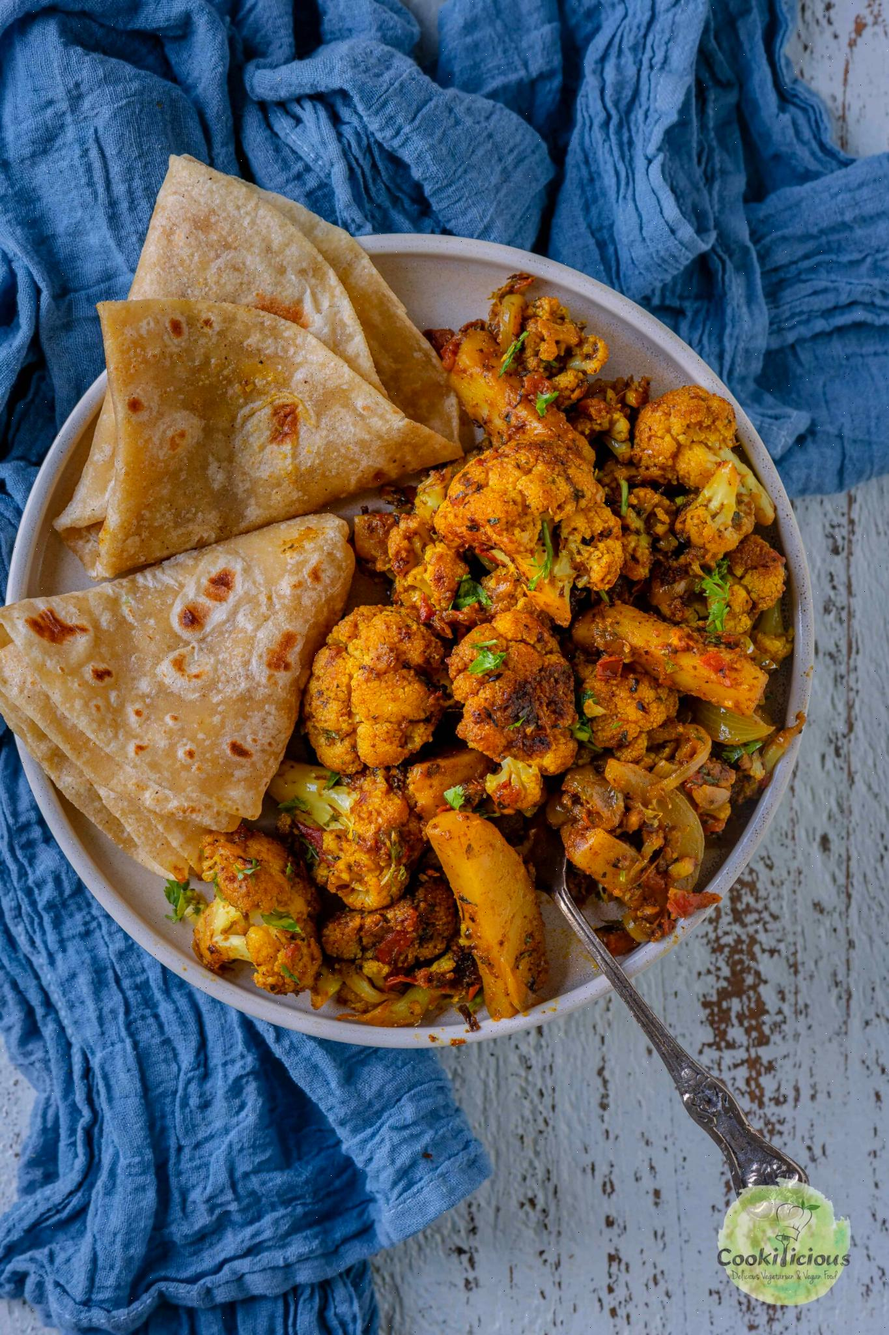aloo gobhi: (351, 346, 727, 995)
roti phulka: (80, 169, 341, 859)
